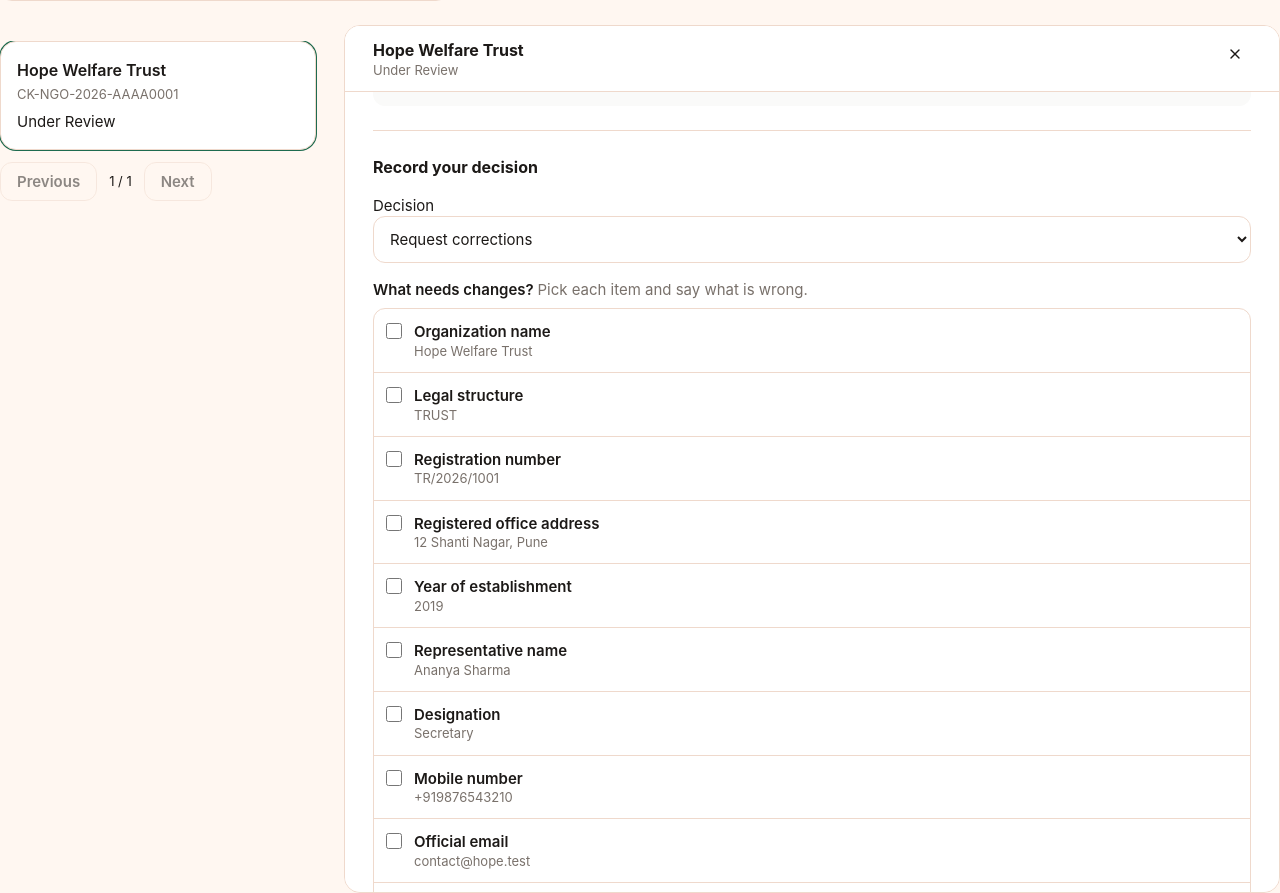
Test: admin NGO review: request changes per item (point 9) › lists every wizard field and uploaded file, and can't save without an item and a note
The width and height of the screenshot is (1280, 893).
(page scrolled)
Expected: the checkbox labelled "Designation Secretary" is shown, [386,706,402,722]
Click the checkbox labelled "Registration number TR/2026/1001".
click(394, 459)  # box [386,451,402,467]
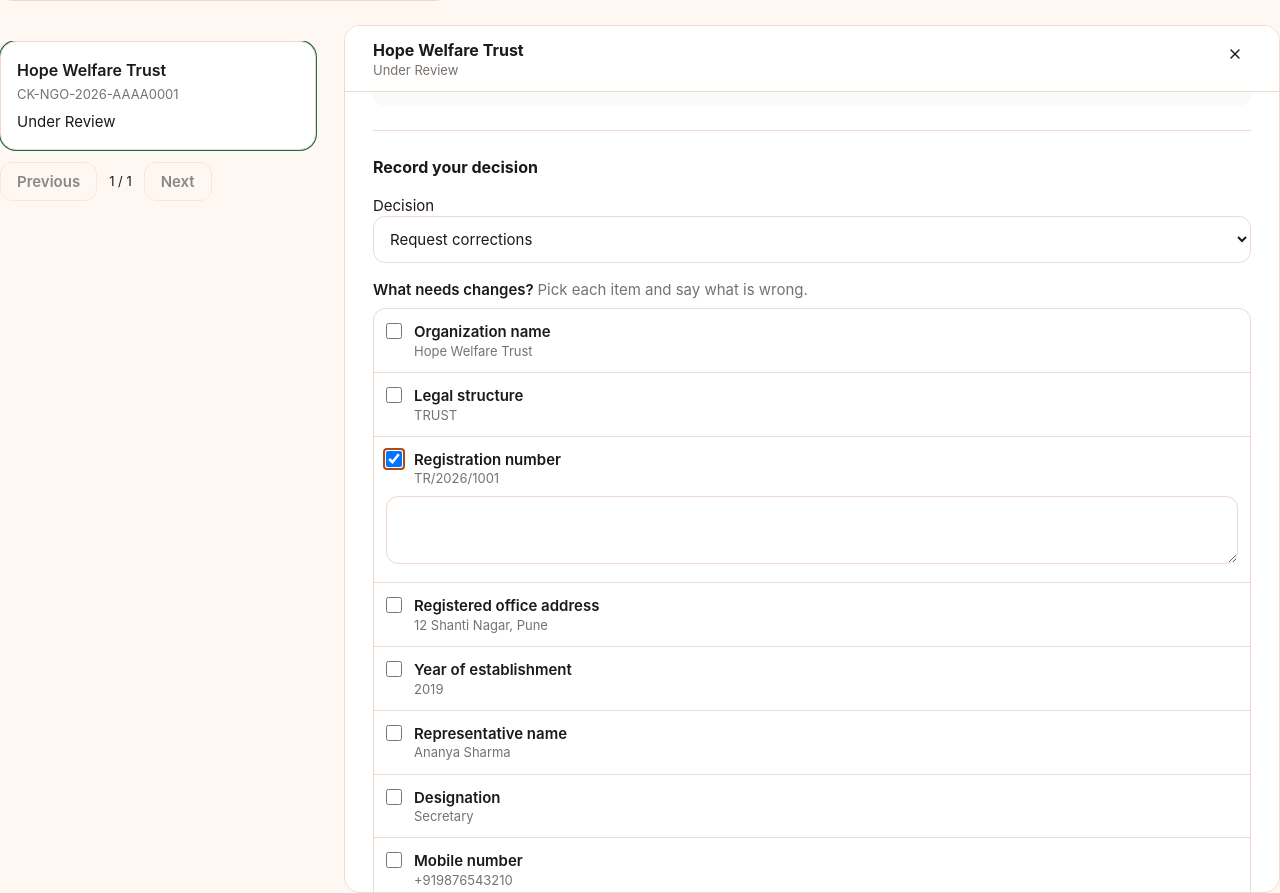
Type "Does not match the certificate" into the text box named "What is wrong with Registration number".
click(812, 530); type("Does not match the certificate")  # box [386,496,1238,564]
(page scrolled)
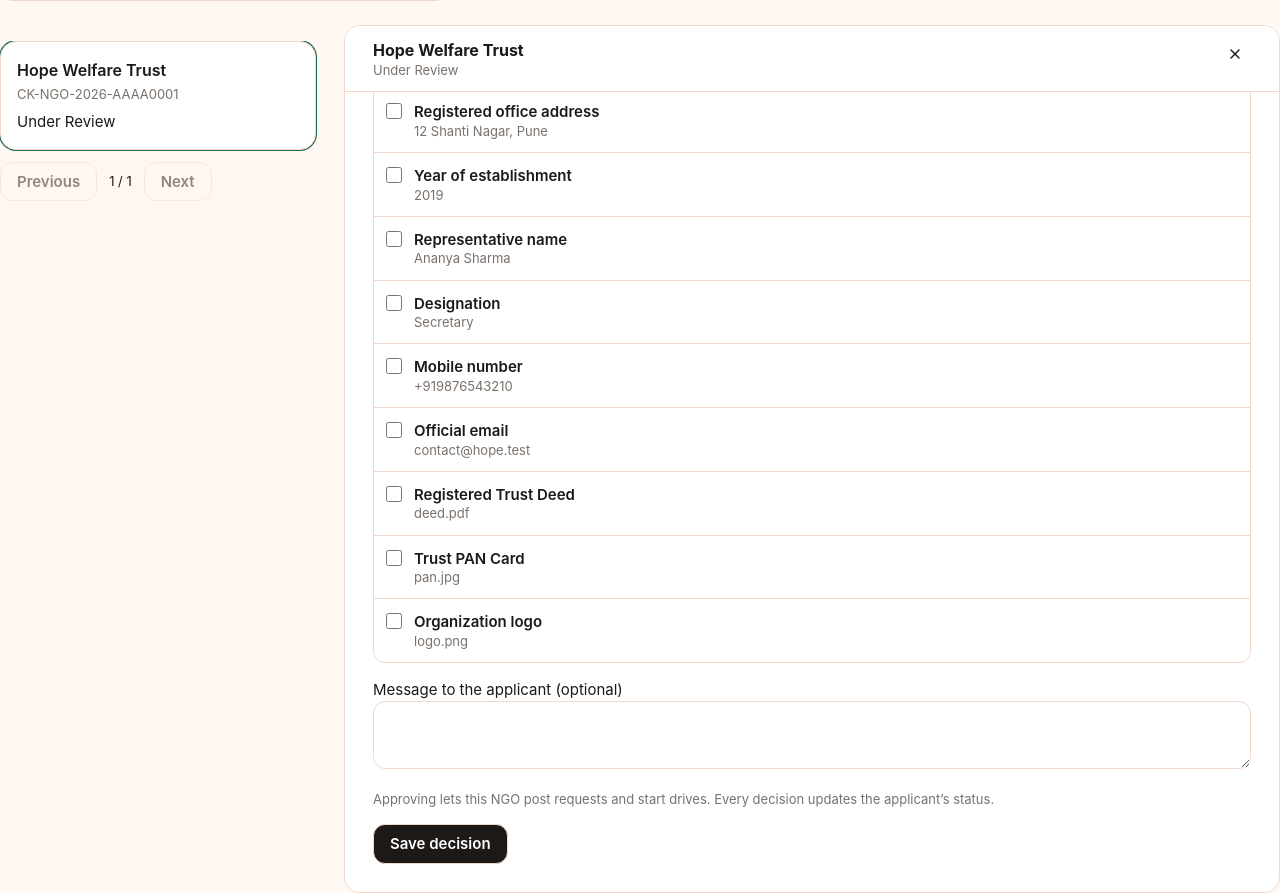
Result: the button "Save decision" is enabled at [373,824,508,864]
Click the checkbox labelled "Registered Trust Deed deed.pdf".
click(394, 494)  # box [386,486,402,502]
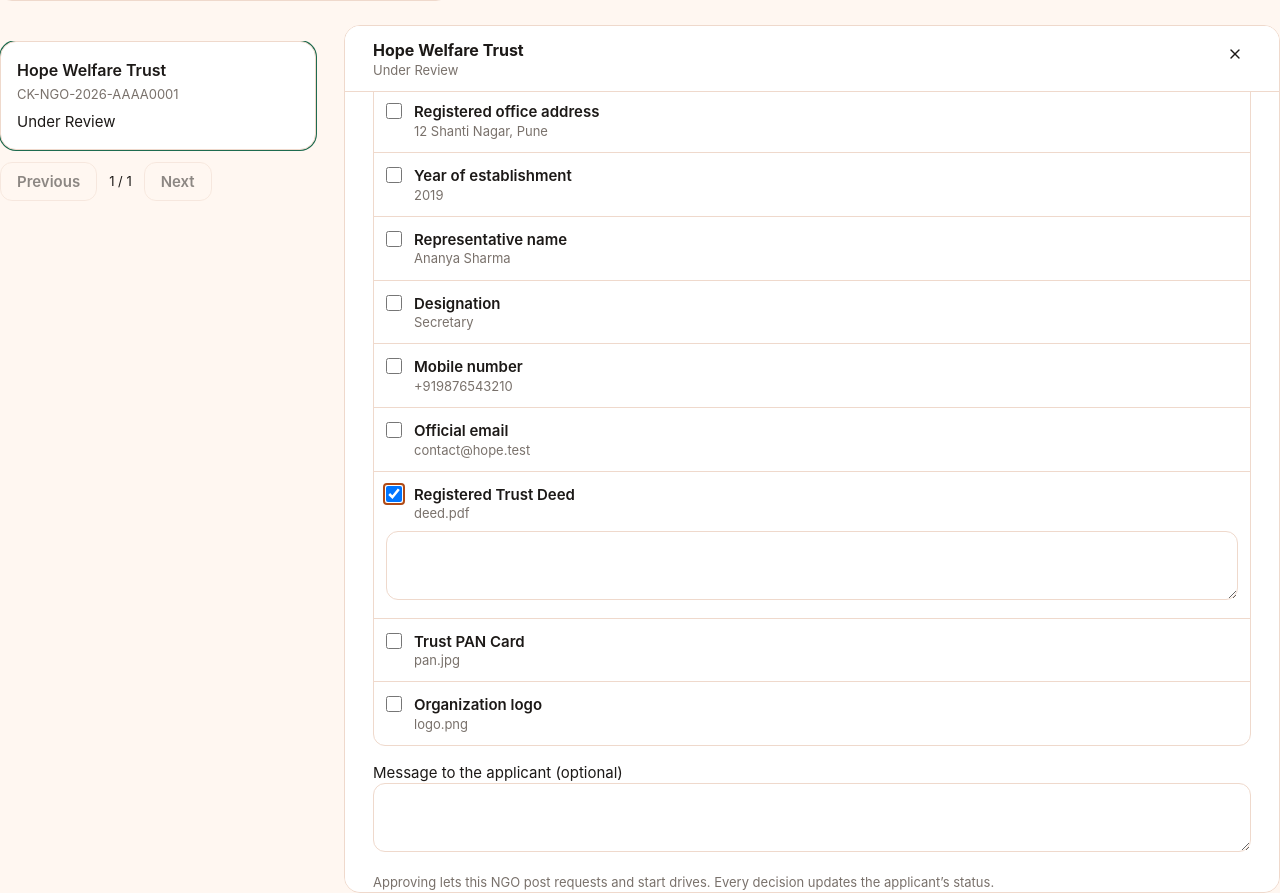
Type "The deed scan is cut off" into the text box named "What is wrong with Registered Trust Deed".
click(812, 565); type("The deed scan is cut off")  # box [386,531,1238,600]
(page scrolled)
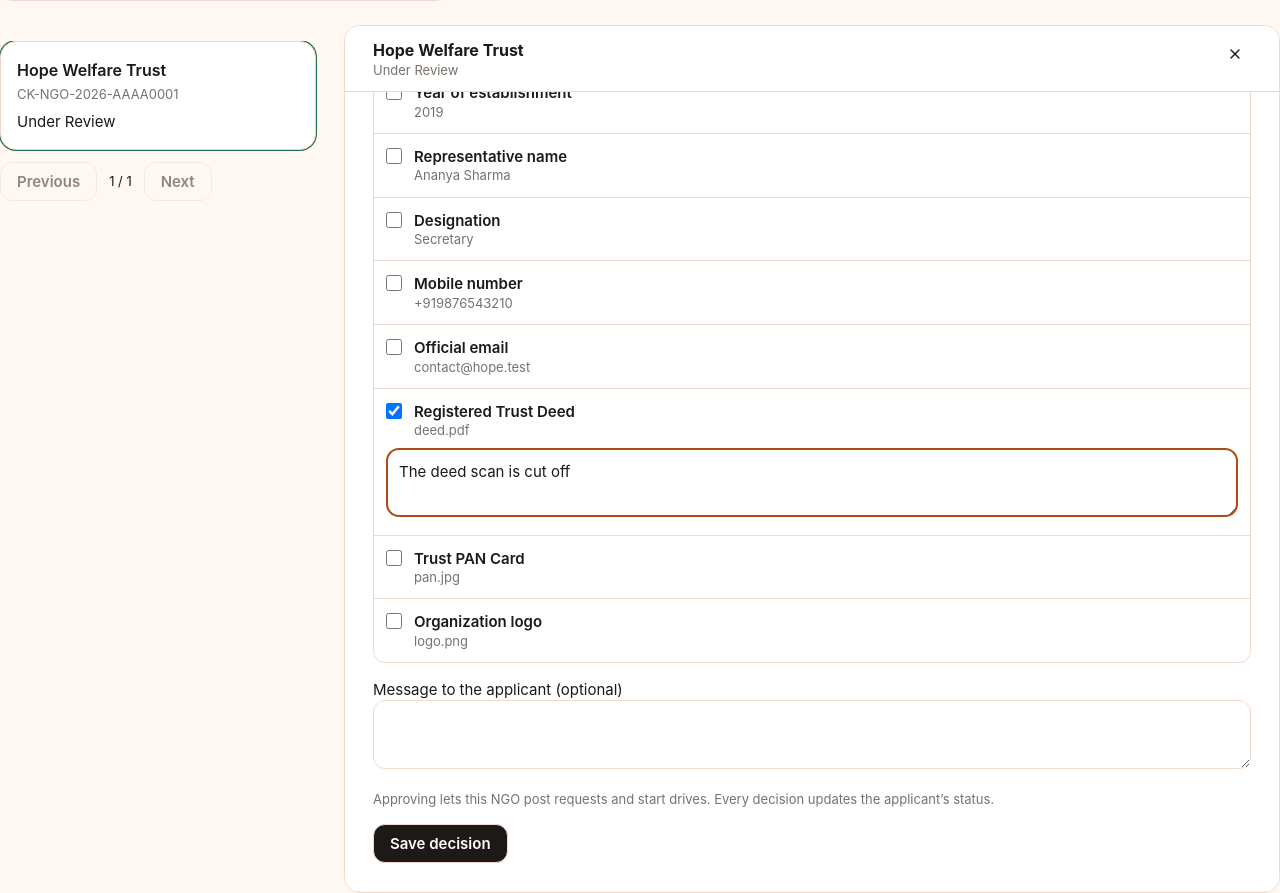
Click the button "Save decision".
click(440, 844)  # box [373,824,508,863]
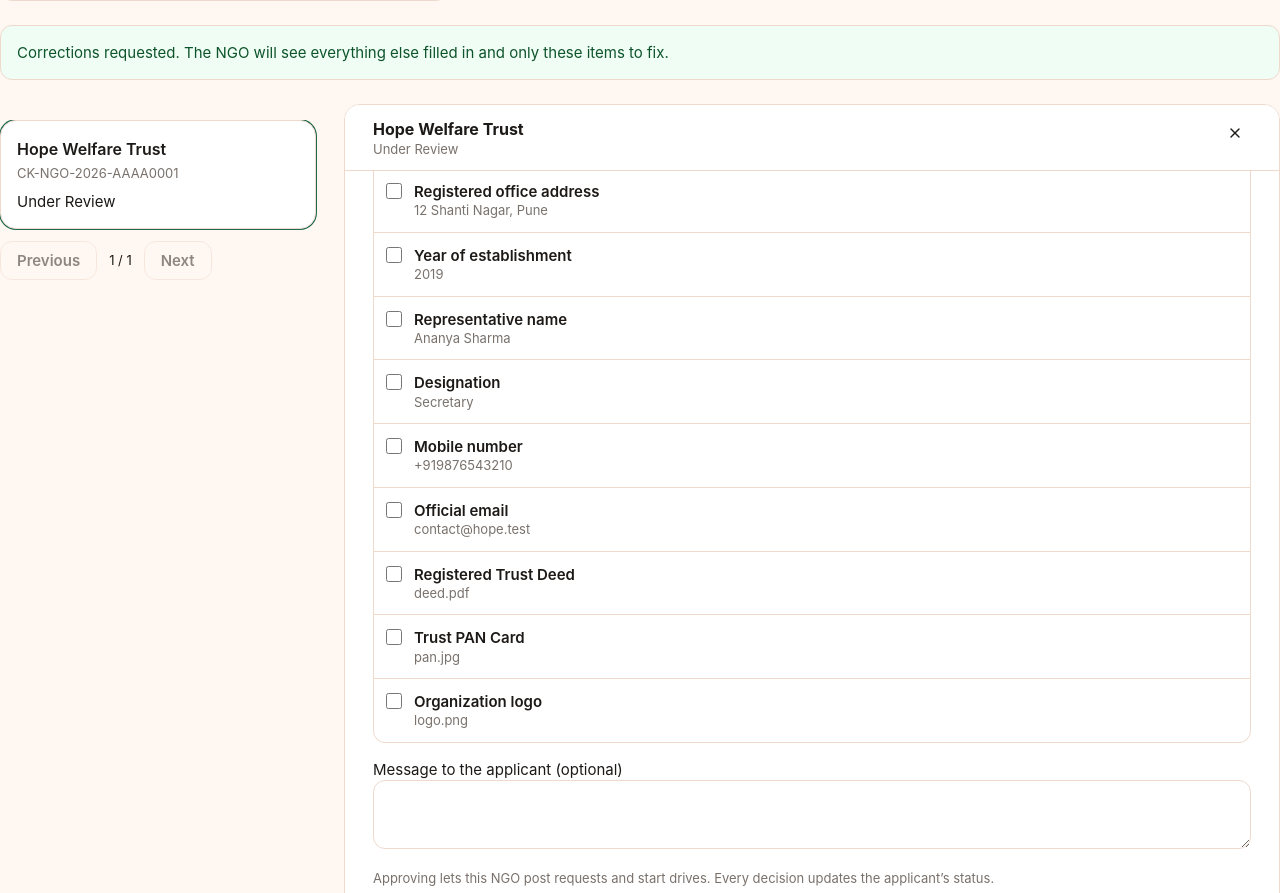
Result: the text "Corrections requested. The NGO will see everything else filled in" is shown at [17,43,669,62]
